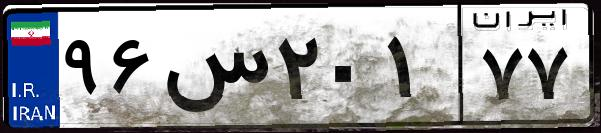0: (330, 28, 385, 110)
1: (385, 28, 445, 110)
2: (270, 28, 330, 110)
6: (110, 28, 158, 98)
7: (475, 38, 525, 113), (525, 38, 570, 115)
9: (57, 26, 110, 100)
س: (158, 20, 270, 120)
